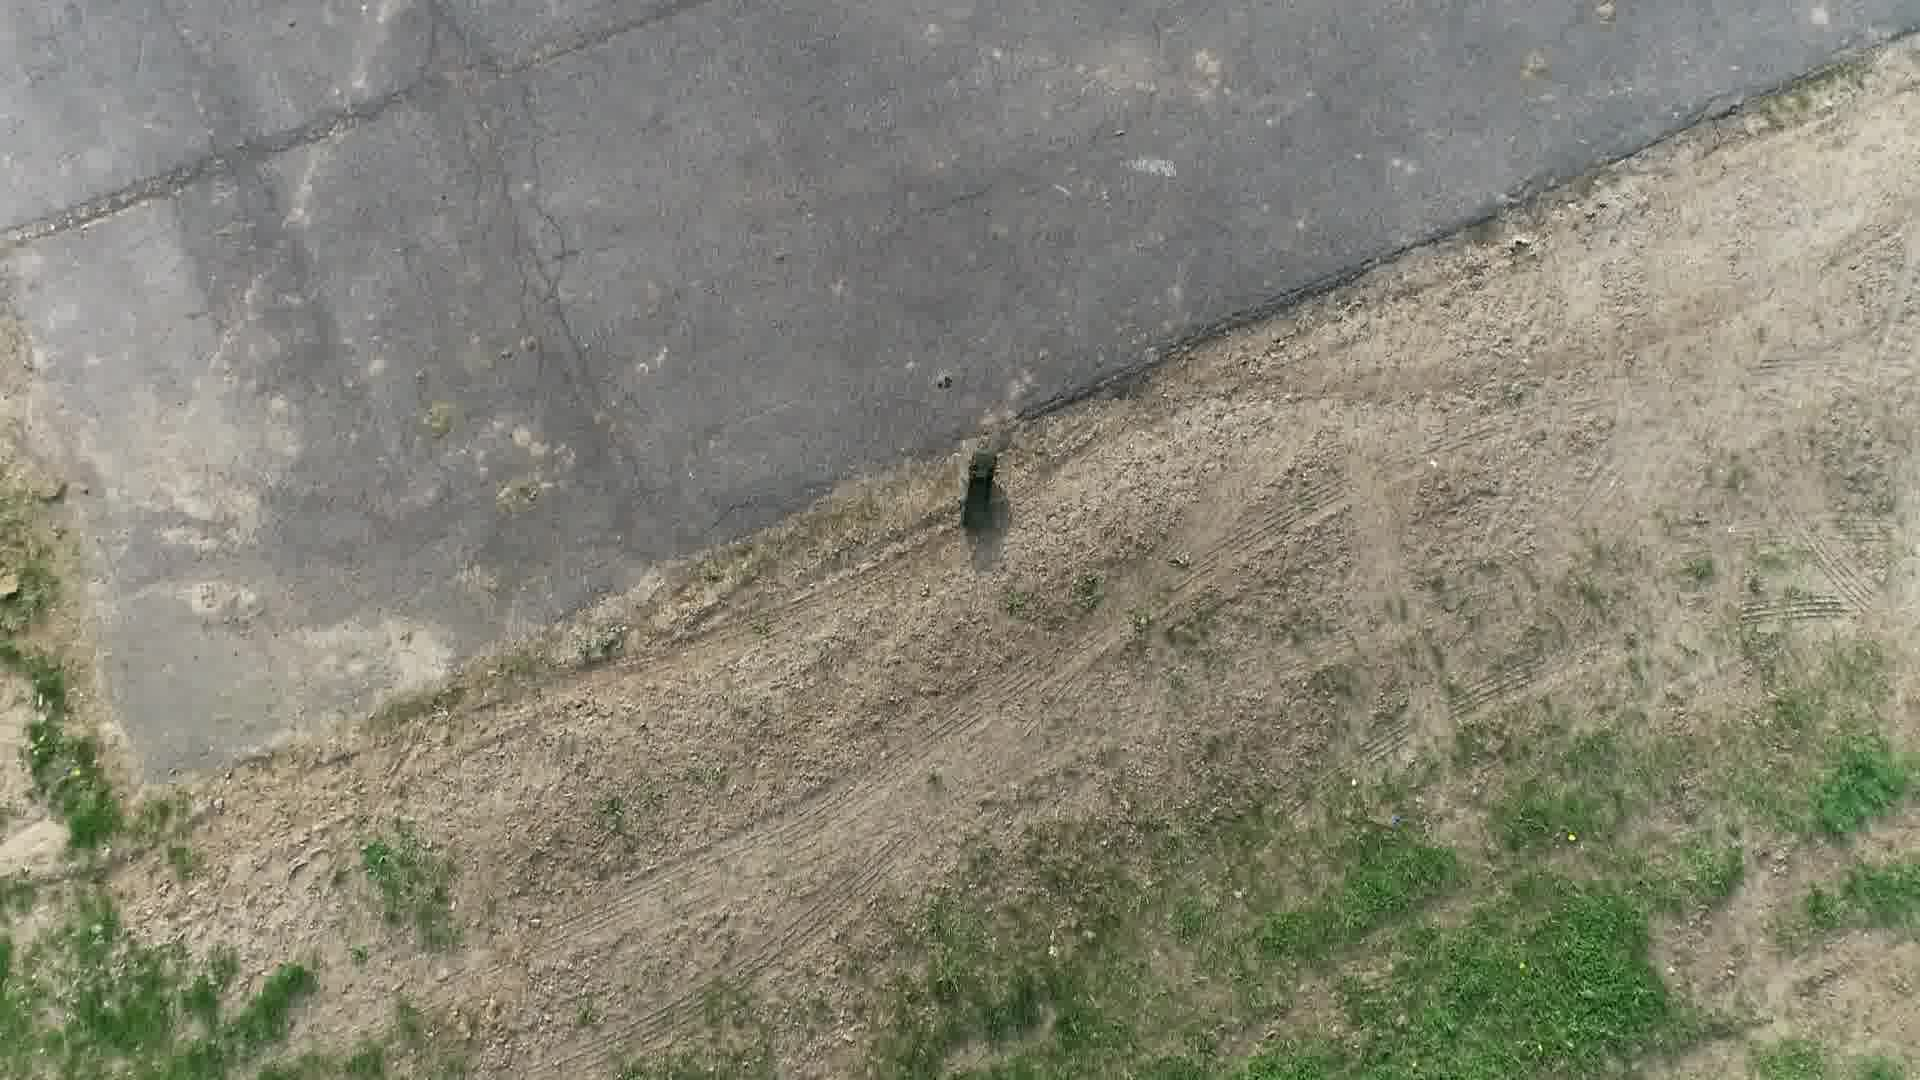transporter9: (957, 448, 1001, 539)
